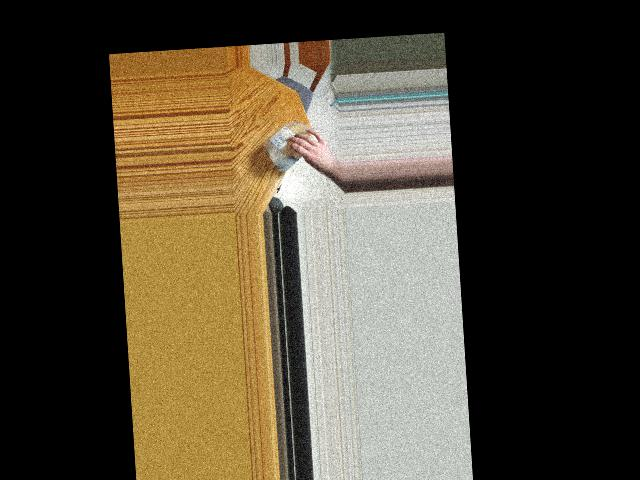cheese: (260, 116, 322, 166)
